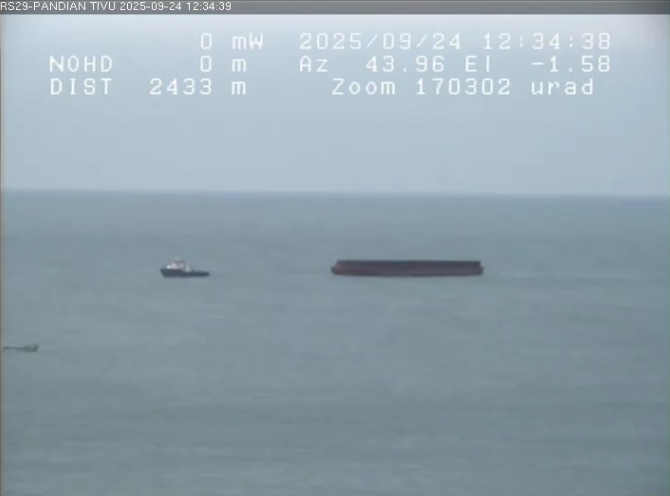BARGE: (308, 236, 521, 296)
FISHING_BOAT: (1, 335, 53, 360)
OFFSHORE_SUPPLY_VESSEL: (144, 247, 228, 289)
TOWING: (115, 205, 555, 317)
